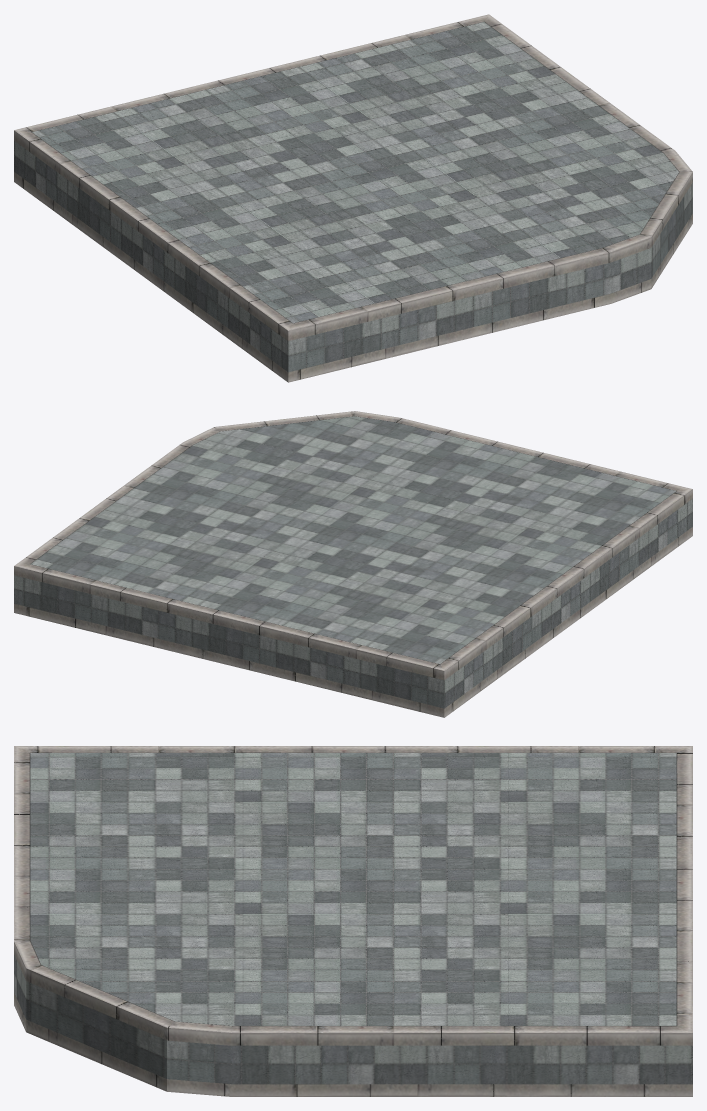
The model's file is Building_site_b_1.fbx.
3 renders of one model, top to bottom at view 1: azimuth 30°, elevation 25°; view 2: azimuth 150°, elevation 25°; view 3: azimuth 270°, elevation 25°, orthographic. The views are drawn at different scales.
Parts seen in each view (by area): view 1: Building_site_b_1; view 2: Building_site_b_1; view 3: Building_site_b_1.
Boxes of the visible parts, left/top/right/bottom form: Building_site_b_1: left=14, top=14, right=692, bottom=382; Building_site_b_1: left=14, top=411, right=692, bottom=717; Building_site_b_1: left=14, top=746, right=692, bottom=1096.
Size of the model in its own units: 0.0625 by 0.0065 by 0.0625.
